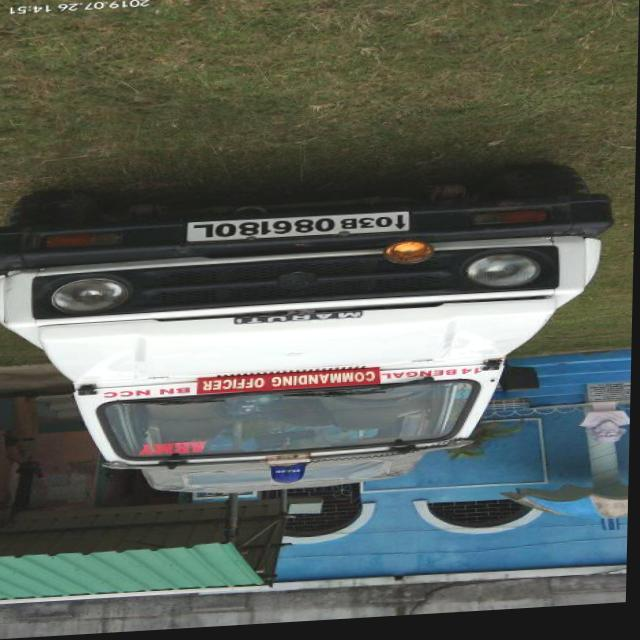0: (217, 226, 238, 240), (376, 220, 396, 233), (316, 222, 336, 235)
1: (261, 224, 271, 237)
3: (359, 222, 377, 235)
6: (272, 224, 292, 238)
8: (293, 223, 315, 236), (239, 225, 259, 239)
b: (340, 222, 359, 234)
l: (194, 226, 218, 241)
